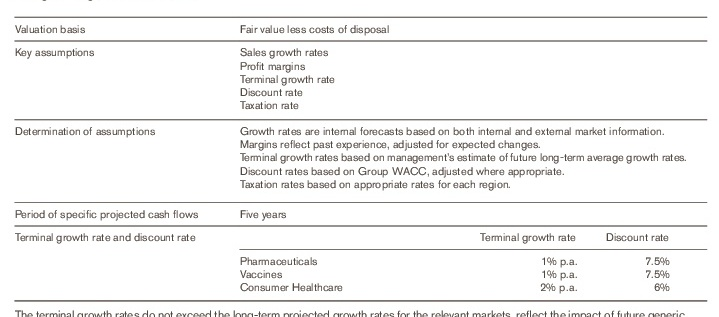table: (0, 0, 719, 317)
